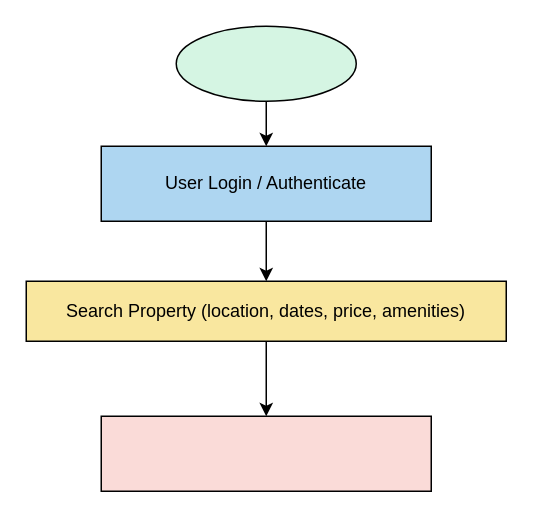
The diagram is 533 pixels wide and 518 high, and some of its shapes have lost their labels. The shapes that lost their labels are listed below. From the top down, each one's centre as x and y in pixels, then its label:
point (265, 63): Start
point (265, 453): Display Available Properties
